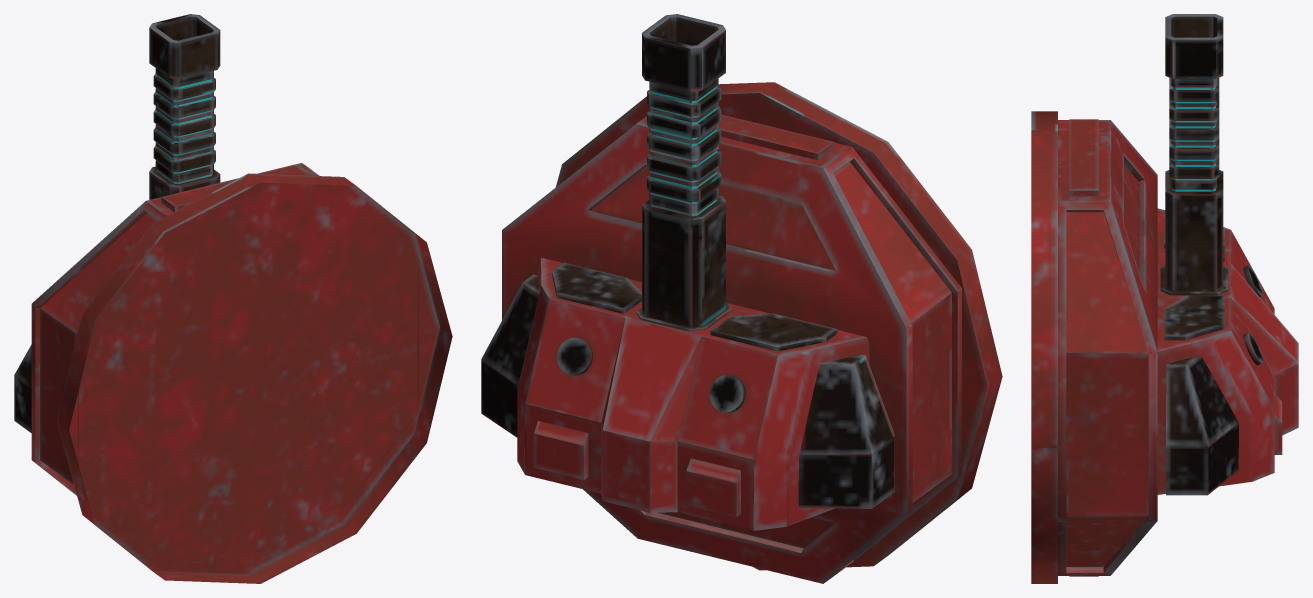
The model's file is Laser_turret.obj.
3 renders of one model, left to right at view 1: azimuth 30°, elevation 25°; view 2: azimuth 150°, elevation 25°; view 3: azimuth 270°, elevation 25°, orthographic. The views are drawn at different scales.
Parts seen in each view (by area): view 1: Laser_turret; view 2: Laser_turret; view 3: Laser_turret.
Part boxes in pixels (<box>): Laser_turret: <box>14,14,452,583</box>; Laser_turret: <box>481,14,1002,583</box>; Laser_turret: <box>1031,14,1298,583</box>.
Size of the model in its own units: 1.22 by 1.51 by 0.6846.
